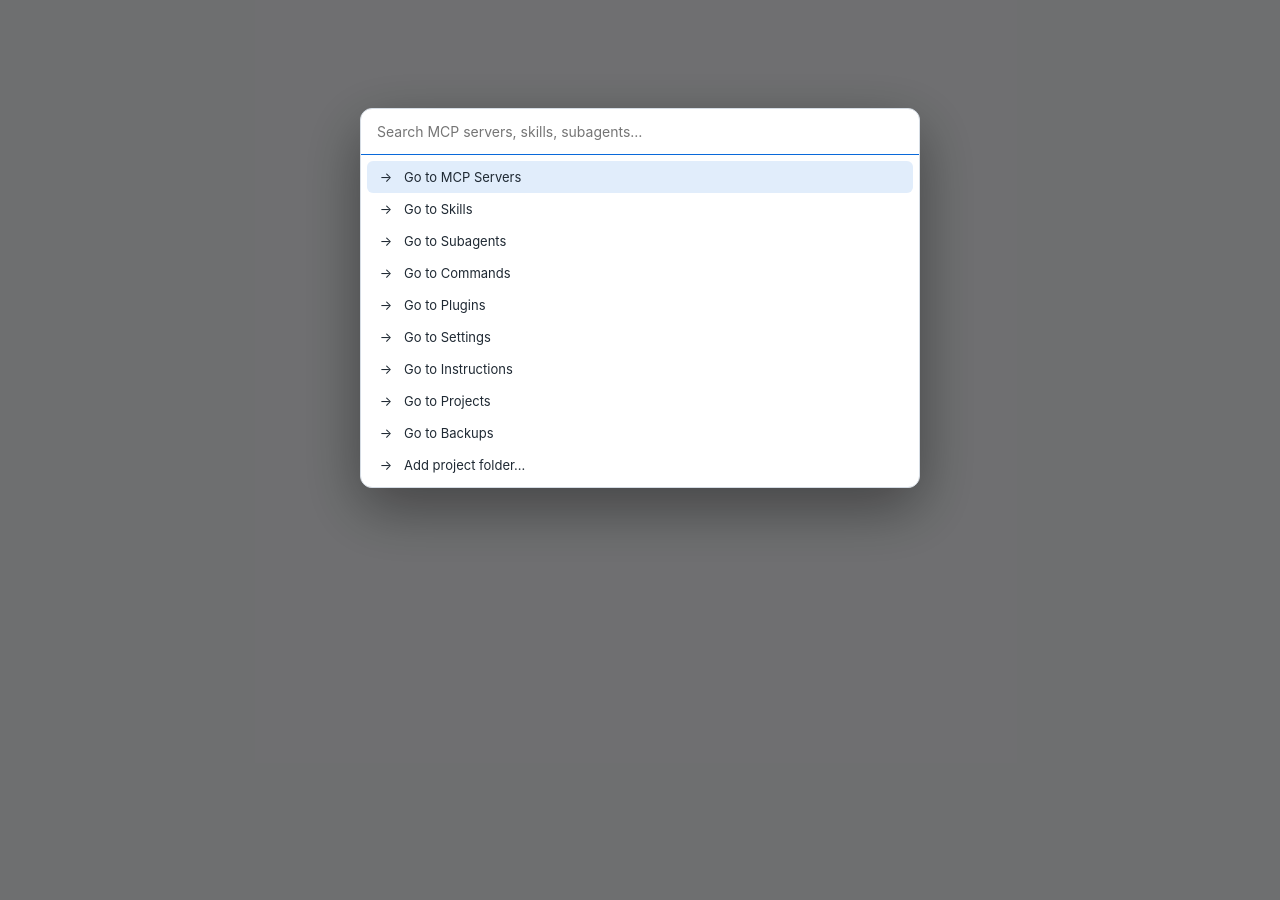
Test: CommandPalette › says when nothing matches
The width and height of the screenshot is (1280, 900).
Type "zzzz" into the field with placeholder "Search MCP servers, skills, subagents…".
click(640, 132); type("zzzz")  # box [361,109,919,155]
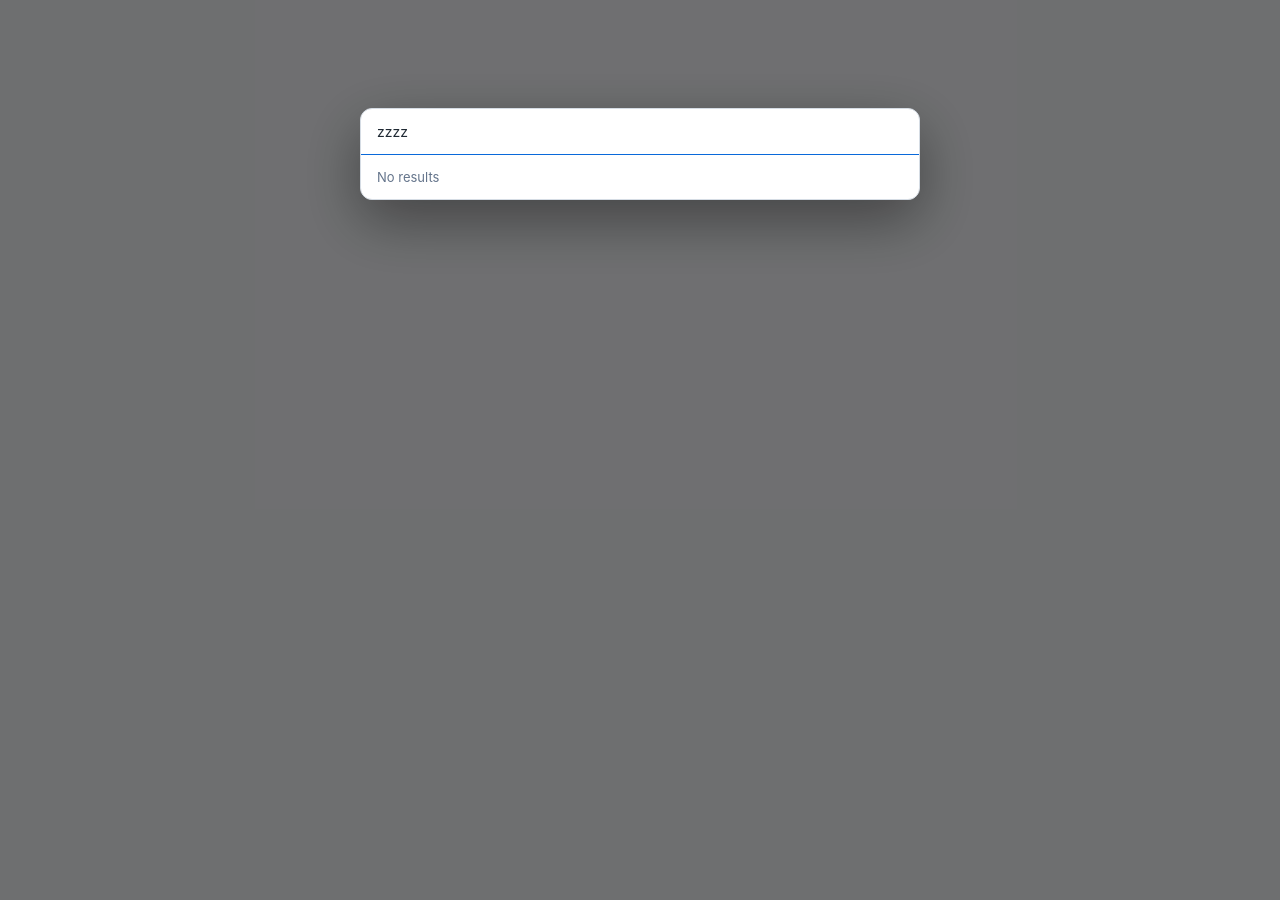
Result: the list item "No results" is shown at [377,169,439,185]
